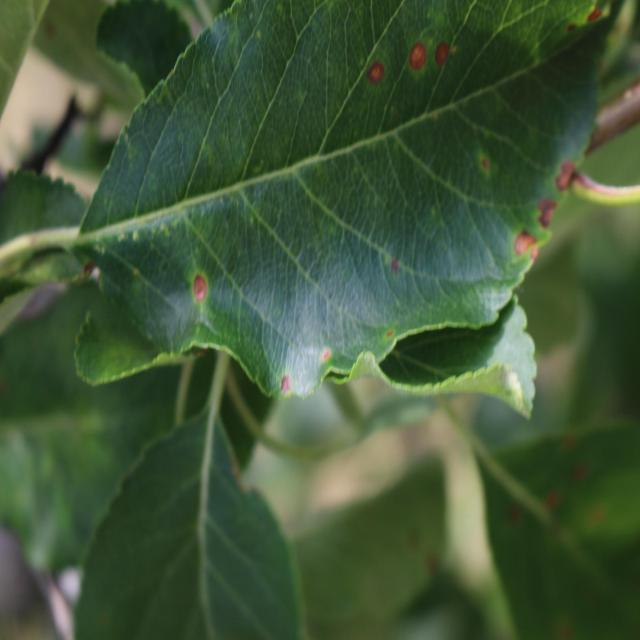Black Rot: (427, 27, 462, 83), (186, 254, 212, 320), (402, 28, 432, 82), (362, 44, 392, 90), (511, 225, 545, 263), (267, 363, 297, 402), (534, 190, 563, 229), (317, 338, 337, 387), (478, 144, 496, 185)
